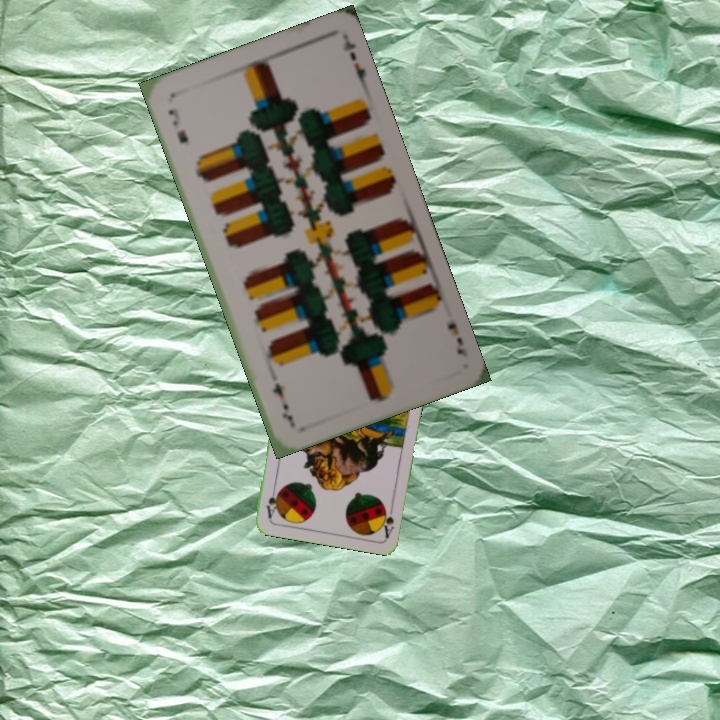E7: (164, 105, 191, 147), (443, 318, 470, 360)
SA: (377, 499, 397, 539)
